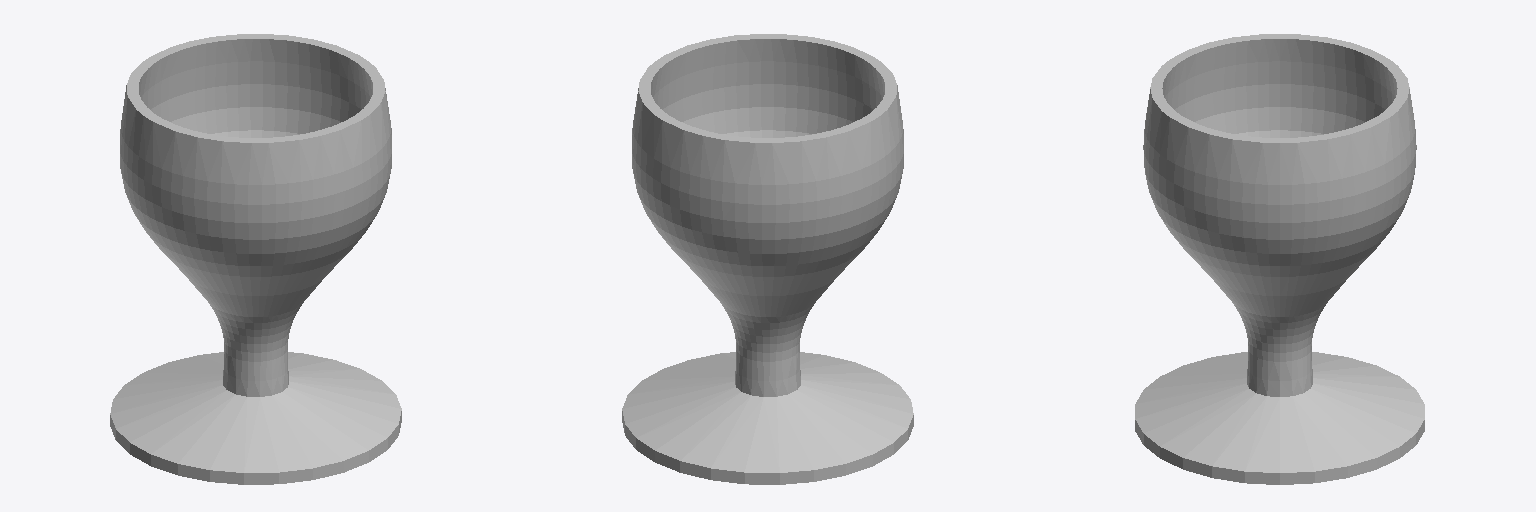
Rendered from cup.obj.
The picture shows the model from 3 angles: view 1: azimuth 30°, elevation 25°; view 2: azimuth 150°, elevation 25°; view 3: azimuth 270°, elevation 25°; orthographic projection.
Bounding box in the file's own units: 18 × 22.8 × 17.87.